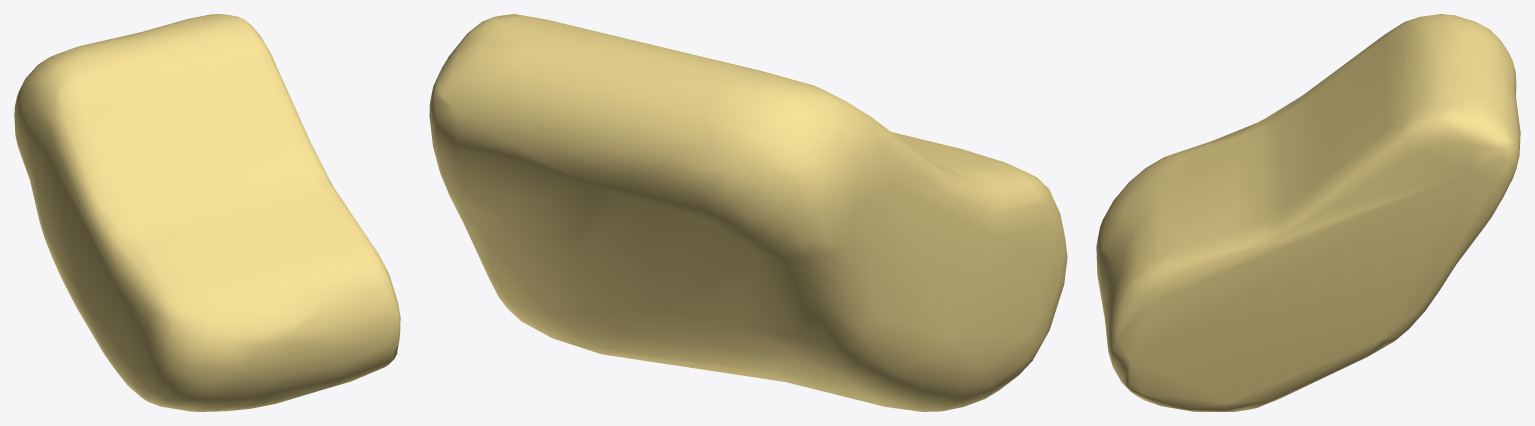
3 views of the same model, side by side, from view 1: azimuth 30°, elevation 25°; view 2: azimuth 150°, elevation 25°; view 3: azimuth 270°, elevation 25° (orthographic). The views are drawn at different scales.
Parts seen in each view (by area): view 1: ZA_abc22cabcee5b5c3; view 2: ZA_abc22cabcee5b5c3; view 3: ZA_abc22cabcee5b5c3.
Boxes of the visible parts, x1,y1,x2,y2 form: ZA_abc22cabcee5b5c3: [14, 14, 400, 411]; ZA_abc22cabcee5b5c3: [429, 14, 1067, 411]; ZA_abc22cabcee5b5c3: [1096, 14, 1520, 411].
Bounding box in the file's own units: 0.00711 × 0.00785 × 0.01.
